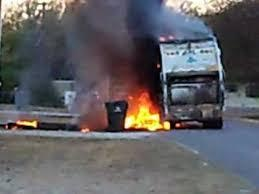fire: (121, 88, 173, 130), (9, 115, 39, 128)
